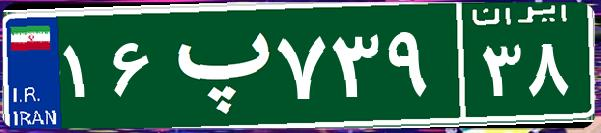1: (57, 26, 110, 107)
3: (330, 28, 385, 110), (475, 38, 525, 113)
6: (110, 28, 158, 105)
7: (273, 28, 330, 110)
8: (525, 38, 570, 115)
9: (385, 28, 445, 110)
پ: (158, 15, 273, 115)
